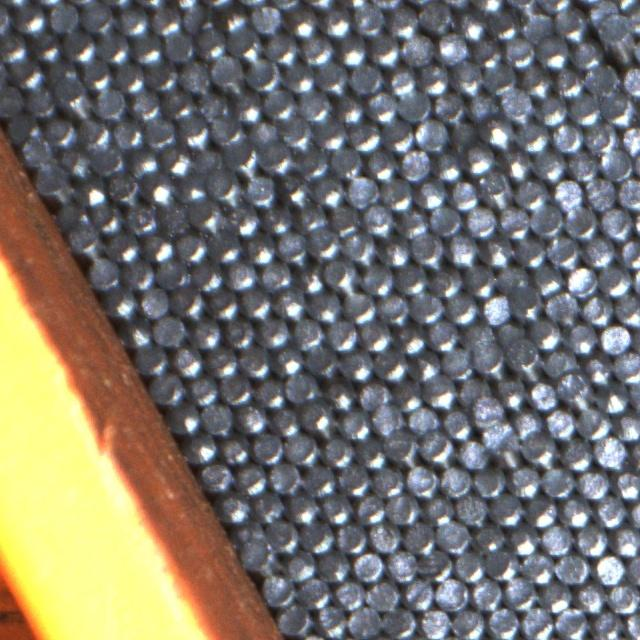tool: (540, 463, 575, 498), (277, 600, 312, 635), (284, 371, 320, 405), (342, 288, 377, 322), (212, 57, 246, 92), (419, 548, 454, 582), (262, 87, 298, 120), (352, 2, 386, 36), (350, 60, 384, 94), (490, 492, 524, 526), (264, 31, 298, 65), (575, 522, 609, 556), (554, 4, 588, 38), (602, 90, 636, 124), (343, 230, 377, 264), (420, 0, 454, 34), (530, 204, 564, 238), (151, 370, 185, 404), (247, 56, 281, 90), (324, 257, 358, 291), (437, 518, 471, 552), (432, 88, 466, 122), (508, 342, 542, 376), (368, 31, 401, 65), (577, 466, 610, 500), (325, 317, 359, 350), (571, 37, 605, 70), (251, 430, 284, 464), (556, 550, 589, 584), (405, 462, 438, 496), (223, 315, 256, 349), (374, 346, 408, 379), (316, 58, 349, 92), (594, 494, 628, 527), (299, 88, 332, 122), (238, 344, 272, 377), (501, 88, 534, 122), (504, 574, 537, 608), (300, 520, 334, 553), (540, 522, 574, 555), (88, 256, 121, 290), (318, 4, 351, 38), (530, 262, 564, 295), (546, 290, 580, 323), (520, 64, 554, 97), (507, 463, 540, 497), (506, 523, 540, 556), (516, 119, 550, 152), (148, 2, 181, 36), (452, 606, 486, 639), (95, 86, 128, 120), (462, 263, 496, 296), (364, 147, 398, 180), (558, 437, 592, 470), (340, 348, 374, 381), (305, 344, 339, 377), (559, 494, 592, 528), (410, 232, 444, 265), (300, 400, 334, 433), (205, 344, 238, 378), (260, 141, 294, 174), (60, 86, 94, 119), (386, 431, 419, 465), (285, 432, 319, 465), (544, 347, 578, 380), (522, 606, 555, 640), (81, 0, 115, 33), (386, 2, 419, 36), (256, 314, 289, 348), (478, 171, 511, 205), (592, 4, 625, 38), (385, 548, 418, 582), (282, 59, 316, 92), (315, 602, 348, 636), (435, 576, 468, 610), (284, 5, 318, 38), (205, 167, 239, 200), (230, 27, 264, 60), (536, 35, 569, 69), (384, 604, 417, 638), (261, 572, 295, 605), (334, 520, 368, 553), (134, 341, 168, 374), (463, 144, 496, 178), (211, 114, 246, 146), (302, 461, 335, 494), (595, 435, 628, 468), (455, 492, 488, 525), (115, 4, 148, 37), (565, 265, 598, 298), (239, 285, 272, 318), (401, 32, 434, 65), (300, 32, 333, 65), (268, 460, 301, 493), (336, 462, 369, 495), (189, 316, 222, 349), (354, 435, 387, 468), (291, 316, 324, 349), (63, 29, 96, 62), (219, 372, 252, 405), (273, 285, 306, 318), (319, 491, 352, 524), (162, 86, 195, 119), (298, 574, 331, 607), (329, 145, 362, 178), (578, 407, 611, 440), (369, 519, 402, 552), (581, 293, 614, 326), (429, 263, 462, 296), (122, 257, 155, 290), (378, 235, 411, 268), (286, 490, 319, 523), (96, 29, 129, 62), (421, 431, 454, 464), (556, 607, 589, 640), (495, 260, 528, 293), (600, 206, 633, 239), (440, 406, 473, 439), (522, 550, 555, 583), (377, 291, 410, 324), (243, 232, 276, 265), (525, 495, 558, 528), (499, 205, 532, 238), (399, 147, 432, 180), (551, 177, 584, 210), (394, 321, 427, 354), (353, 491, 386, 524), (418, 606, 451, 639), (473, 521, 506, 554), (145, 56, 178, 89), (387, 491, 420, 524), (515, 177, 548, 210), (348, 603, 381, 636), (280, 115, 313, 148), (381, 177, 414, 210), (328, 203, 361, 236), (361, 262, 394, 295), (600, 146, 633, 179), (233, 461, 266, 494), (519, 6, 552, 39), (410, 289, 443, 322), (295, 145, 328, 178), (108, 170, 141, 203), (501, 147, 534, 180), (586, 62, 619, 95), (334, 92, 367, 125), (352, 548, 384, 582), (219, 431, 251, 465), (418, 62, 450, 96), (152, 314, 186, 346), (415, 118, 449, 150), (566, 206, 600, 238), (598, 263, 630, 297), (444, 291, 478, 323), (402, 521, 436, 553), (250, 488, 284, 520), (46, 0, 80, 32), (568, 92, 602, 124), (124, 201, 158, 233), (471, 576, 503, 610), (346, 173, 378, 207), (105, 228, 139, 260), (245, 172, 277, 206), (178, 1, 212, 33), (486, 548, 520, 580), (162, 30, 195, 62), (427, 318, 459, 351), (452, 59, 484, 92), (473, 465, 506, 497), (371, 464, 404, 496), (366, 90, 399, 122), (456, 436, 489, 468), (582, 234, 615, 266), (13, 2, 46, 34), (551, 120, 584, 152), (514, 234, 547, 266), (398, 89, 431, 121), (447, 232, 479, 265), (171, 344, 204, 376), (190, 259, 222, 292), (268, 519, 300, 552), (175, 230, 208, 262), (144, 116, 177, 148), (249, 1, 282, 33), (339, 407, 371, 440), (402, 577, 434, 610), (199, 460, 232, 492), (141, 230, 174, 262), (276, 229, 308, 262), (548, 234, 580, 267), (544, 406, 577, 438), (594, 552, 626, 585), (480, 235, 513, 267), (442, 347, 475, 379), (430, 204, 463, 236), (201, 400, 233, 433), (583, 121, 616, 153), (524, 432, 556, 465), (530, 317, 563, 349), (533, 146, 565, 179), (394, 262, 427, 294), (348, 119, 381, 151), (367, 578, 400, 610), (590, 608, 623, 640), (382, 118, 415, 150), (474, 343, 506, 376), (9, 57, 42, 89), (318, 549, 350, 582), (314, 118, 347, 150), (218, 489, 250, 522), (482, 116, 515, 148), (564, 320, 596, 353), (159, 144, 192, 176), (227, 140, 260, 172), (206, 286, 238, 319), (333, 578, 366, 610), (79, 56, 112, 88), (540, 581, 573, 613), (496, 374, 528, 407), (359, 318, 392, 350), (307, 228, 340, 260), (311, 173, 343, 206), (258, 259, 291, 291), (436, 32, 469, 64), (584, 177, 617, 209), (476, 415, 509, 447), (510, 288, 543, 320), (582, 352, 614, 385), (269, 404, 301, 437), (184, 431, 217, 463), (335, 33, 368, 65), (30, 30, 63, 62), (192, 198, 224, 231), (309, 289, 341, 322), (143, 174, 176, 206), (461, 319, 493, 352), (482, 61, 516, 92), (440, 464, 472, 496), (138, 285, 170, 317), (322, 434, 354, 466), (465, 205, 497, 237), (113, 60, 145, 92), (224, 258, 256, 290), (599, 322, 631, 354), (504, 34, 536, 66), (479, 292, 511, 324), (422, 493, 454, 525), (608, 582, 640, 614), (454, 550, 486, 582), (186, 373, 218, 405), (272, 344, 304, 376), (178, 115, 210, 147), (553, 65, 585, 97), (397, 206, 429, 238), (111, 117, 143, 149), (456, 8, 488, 40), (247, 114, 279, 146), (170, 284, 202, 316), (448, 178, 480, 210), (196, 88, 228, 120), (415, 178, 447, 210), (93, 143, 125, 175), (362, 203, 394, 235), (424, 374, 456, 406), (178, 60, 210, 92), (127, 146, 159, 178), (294, 260, 326, 292), (567, 149, 599, 181), (278, 172, 310, 204), (130, 30, 162, 62), (78, 118, 110, 150), (195, 27, 227, 59), (44, 116, 76, 148), (130, 88, 162, 120), (156, 256, 188, 288), (598, 382, 630, 414), (487, 606, 519, 638), (467, 88, 499, 120), (574, 580, 606, 612), (282, 550, 314, 582), (455, 374, 487, 406), (230, 92, 262, 124), (169, 400, 201, 432), (230, 203, 262, 235), (407, 403, 439, 435), (386, 64, 418, 96), (373, 404, 405, 436), (486, 8, 518, 40), (90, 200, 122, 232), (392, 379, 424, 411), (325, 378, 357, 410), (430, 149, 462, 181), (608, 32, 640, 64), (238, 536, 270, 568), (496, 318, 528, 350), (208, 230, 240, 262), (33, 159, 65, 191), (236, 400, 267, 433), (356, 379, 389, 410), (191, 145, 224, 176), (536, 93, 567, 126), (564, 380, 597, 411), (448, 117, 479, 149), (471, 36, 502, 68), (252, 376, 284, 407), (24, 85, 56, 116), (43, 56, 75, 87), (492, 438, 524, 469), (174, 173, 205, 205), (261, 203, 293, 234), (294, 200, 325, 232), (410, 350, 442, 381), (105, 284, 136, 316), (610, 524, 640, 557), (220, 3, 250, 36), (70, 222, 101, 253), (61, 145, 92, 176), (528, 378, 559, 409), (510, 408, 541, 439), (20, 134, 52, 164), (159, 202, 189, 234), (77, 174, 109, 204), (6, 112, 38, 142), (470, 394, 502, 424), (611, 468, 640, 500), (124, 318, 154, 348), (237, 517, 268, 546), (614, 292, 640, 326), (613, 408, 640, 440), (614, 350, 640, 383), (0, 31, 27, 62), (617, 236, 640, 269), (617, 177, 640, 210), (0, 85, 23, 116), (620, 122, 640, 154), (622, 65, 640, 98), (624, 2, 640, 36)
